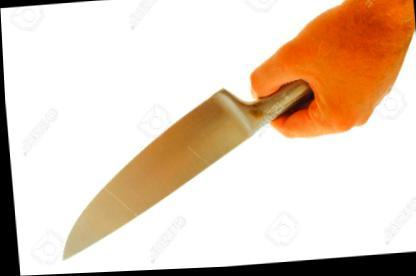knife: (41, 62, 364, 266)
